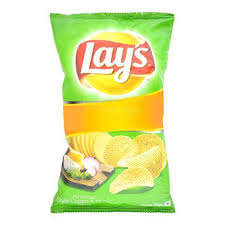lays-small: (47, 10, 177, 215)
